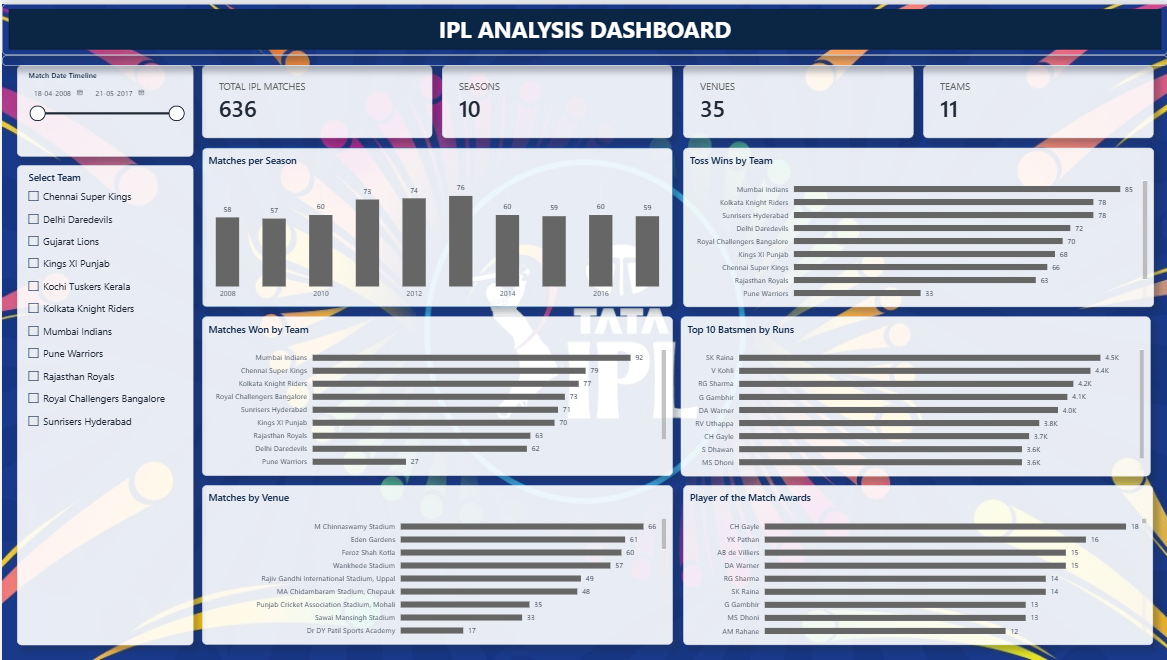

The page's visual inventory and layout, read from the dashboard file:
{"tool":"powerbi","page":{"name":"IPL DASHBOARD","canvas":[1920,1080],"ordinal":0},"visuals":[{"type":"clusteredColumnChart","title":"Matches per Season","fields":{"Category":["matches.season"],"Y":["CountNonNull(matches.id)"]},"box":[330,236,775,262.7],"z":0},{"type":"clusteredBarChart","title":"Toss Wins by Team","fields":{"Category":["matches.toss_winner"],"Y":["CountNonNull(matches.id)1"]},"box":[1121,236,775,262.7],"z":1000},{"type":"clusteredBarChart","title":"Matches Won by Team","fields":{"Category":["matches.winner"],"Y":["CountNonNull(matches.id)"]},"box":[330,514.7,775,262.7],"z":2000},{"type":"clusteredBarChart","title":"Top 10 Batsmen by Runs","fields":{"Category":["deliveries.batsman"],"Y":["Sum(deliveries.batsman_runs)"]},"box":[1117.7,514.6,773.9,263.5],"z":3000},{"type":"clusteredBarChart","title":"Matches by Venue","fields":{"Category":["matches.venue"],"Y":["CountNonNull(matches.id)"]},"box":[330,793.3,775,262.7],"z":4000},{"type":"clusteredBarChart","title":"Player of the Match Awards","fields":{"Category":["matches.player_of_match"],"Y":["CountNonNull(matches.id)"]},"box":[1121.8,792.5,773.9,263.5],"z":5000},{"type":"cardVisual","fields":{"Data":["CountNonNull(matches.id)"]},"box":[330,100,379.5,120],"z":6000},{"type":"cardVisual","fields":{"Data":["Count(matches.season)"]},"box":[725.5,100,379.5,120],"z":7000},{"type":"cardVisual","fields":{"Data":["Count(matches.venue)"]},"box":[1121,100,379.5,120],"z":8000},{"type":"cardVisual","fields":{"Data":["Count(matches.team1)"]},"box":[1516.5,100,379.5,120],"z":9000},{"type":"slicer","fields":{"Values":["matches.date"]},"box":[24,100,290,150],"z":10000},{"type":"slicer","fields":{"Values":["matches.team1"]},"box":[24,266,290,790],"z":11000},{"type":"shape","box":[0,0,1920,84],"z":12000},{"type":"shape","box":[0,84,1920,5],"z":13000}]}

Visuals, with their boxes in screenshot pixels (x1, y1, x2, y2), scaled from the page's 1920x1080 canvas onto the 1167x660 screenshot:
"Matches per Season" clusteredColumnChart: <box>201,144,672,305</box>
"Toss Wins by Team" clusteredBarChart: <box>681,144,1152,305</box>
"Matches Won by Team" clusteredBarChart: <box>201,315,672,475</box>
"Top 10 Batsmen by Runs" clusteredBarChart: <box>679,314,1150,476</box>
"Matches by Venue" clusteredBarChart: <box>201,485,672,645</box>
"Player of the Match Awards" clusteredBarChart: <box>682,484,1152,645</box>
cardVisual - CountNonNull(matches.id): <box>201,61,431,134</box>
cardVisual - Count(matches.season): <box>441,61,672,134</box>
cardVisual - Count(matches.venue): <box>681,61,912,134</box>
cardVisual - Count(matches.team1): <box>922,61,1152,134</box>
slicer - matches.date: <box>15,61,191,153</box>
slicer - matches.team1: <box>15,163,191,645</box>
shape: <box>0,0,1166,51</box>
shape: <box>0,51,1166,54</box>
